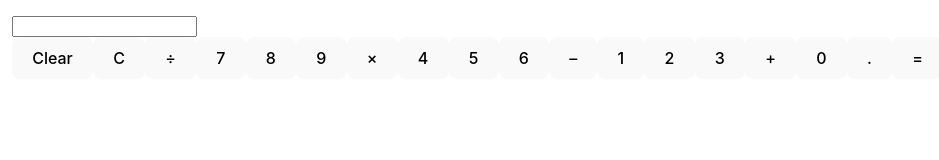
Test: Calculator E2E Tests › should handle backspace correctly
Click the button with test id "num-1": (621, 58) left=597, top=37, right=644, bottom=78
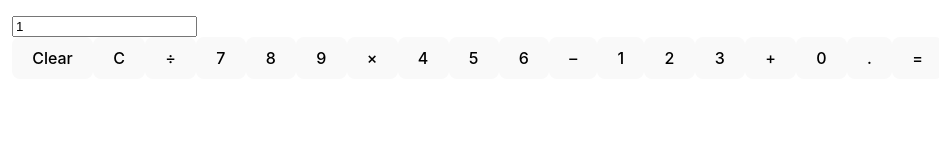
Click the button with test id "num-2": (669, 58) left=644, top=37, right=694, bottom=78
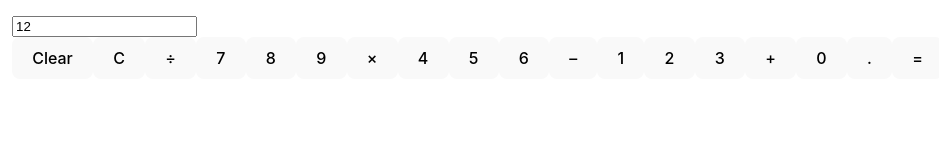
Click the button with test id "num-3": (720, 58) left=695, top=37, right=745, bottom=78
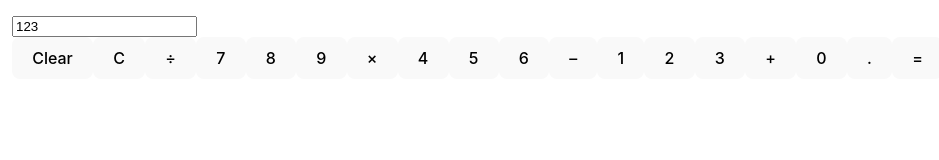
Click the button with test id "backspace": (119, 58) left=93, top=37, right=145, bottom=78
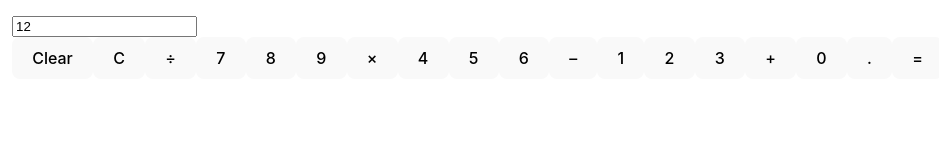
Expected: the field holds "12", left=12, top=16, right=197, bottom=37
